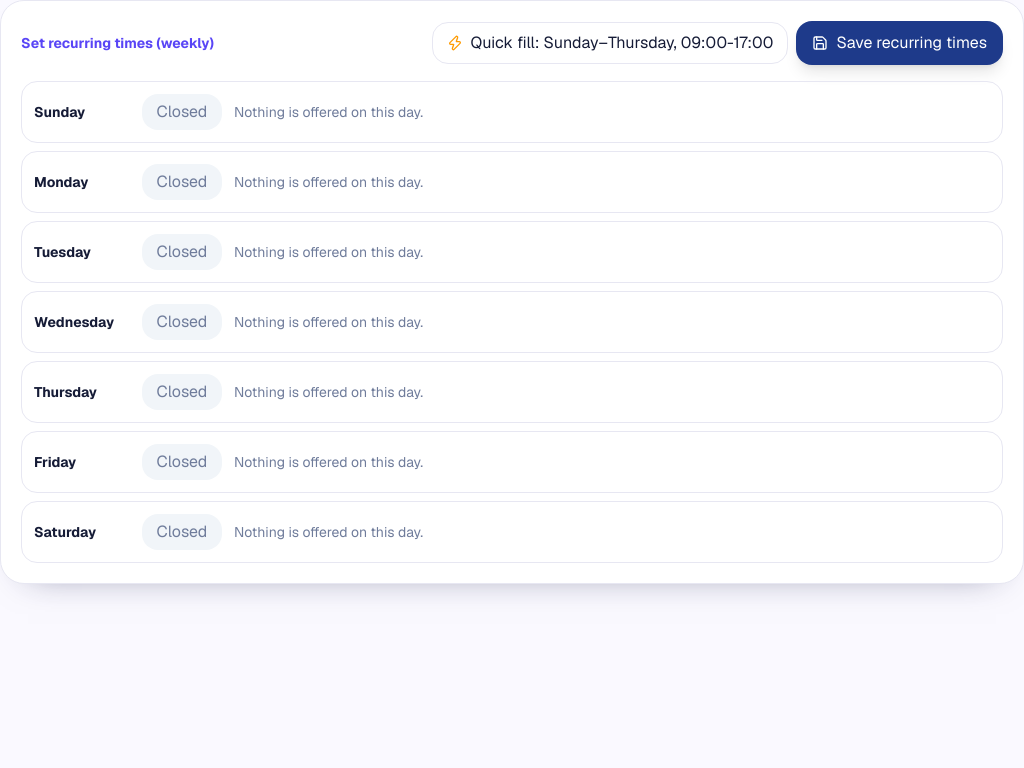
Scenario: employee weekly hours editor › saves the whole week as one replace-all payload, closed days simply absent
Click the button "Quick fill: Sunday–Thursday, 09:00-17:00" at point(610, 43), box [432, 22, 788, 64]
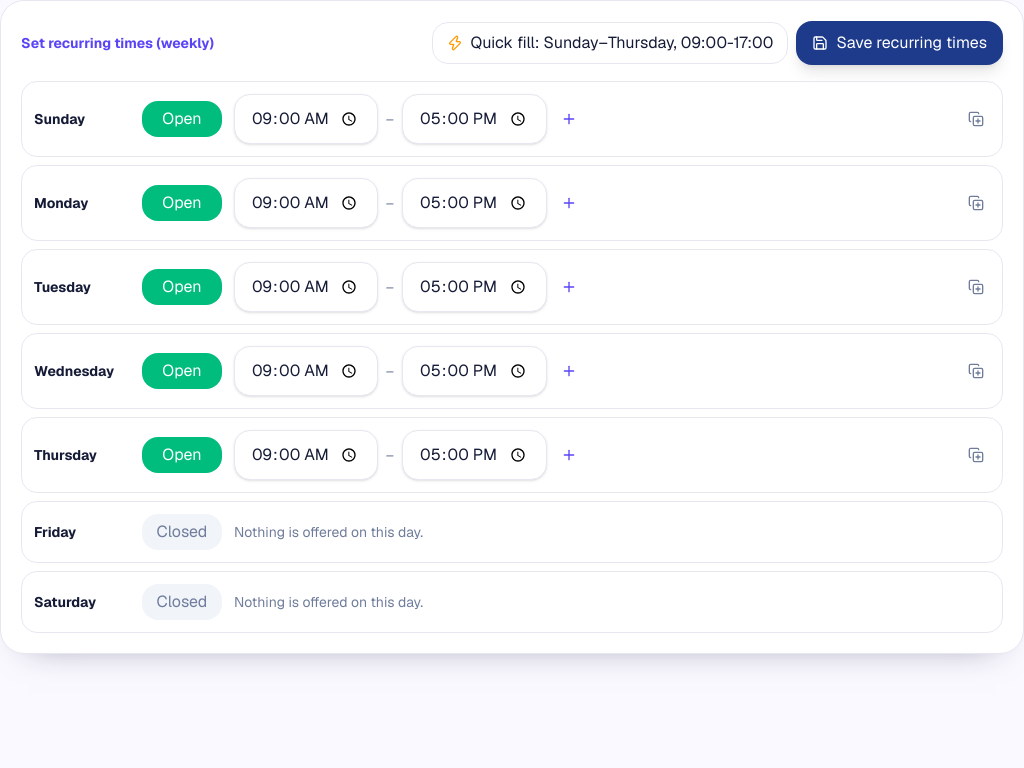
Click the button "Save recurring times" at point(900, 43), box [796, 21, 1003, 65]
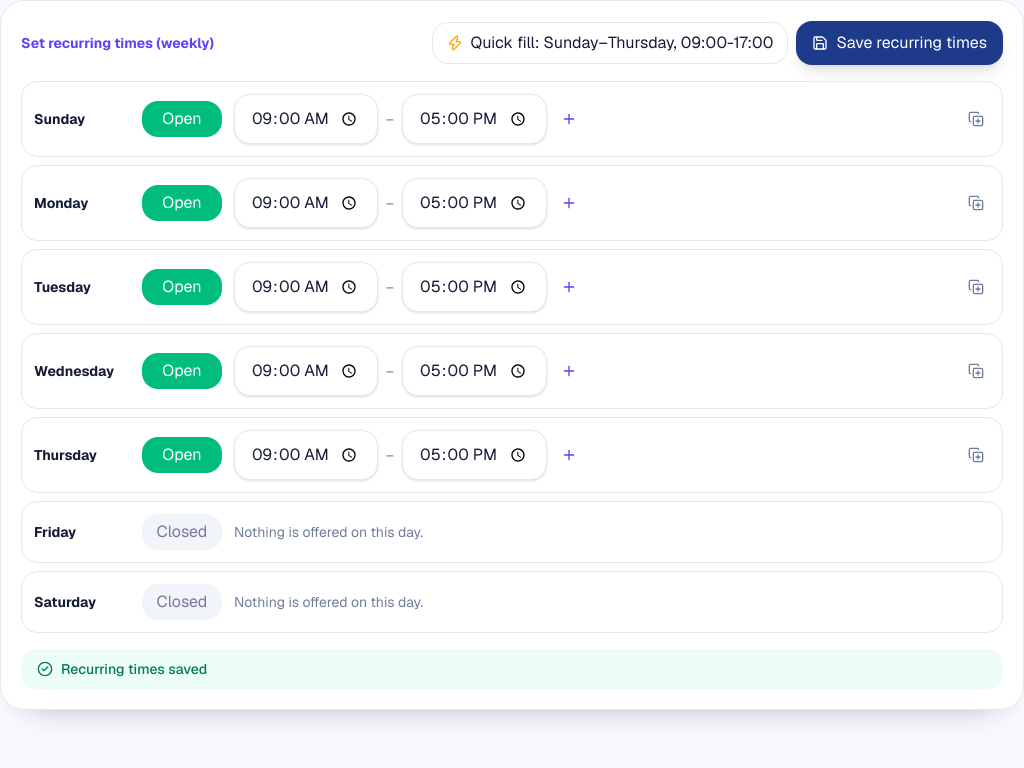
Check: the message reads "Recurring times saved", box [61, 660, 207, 678]
